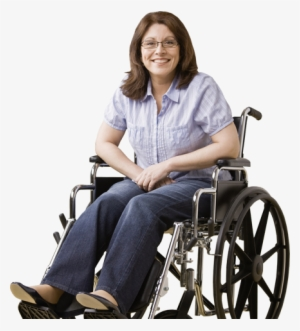wheelchair: (11, 11, 291, 320)
